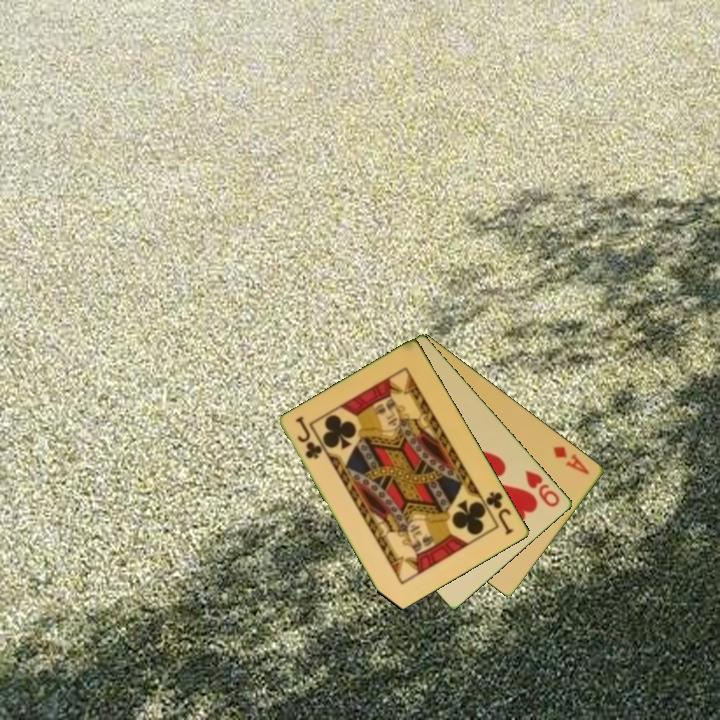9h: (522, 467, 563, 510)
Ad: (550, 442, 593, 478)
Jc: (482, 488, 517, 538), (292, 413, 325, 462)
